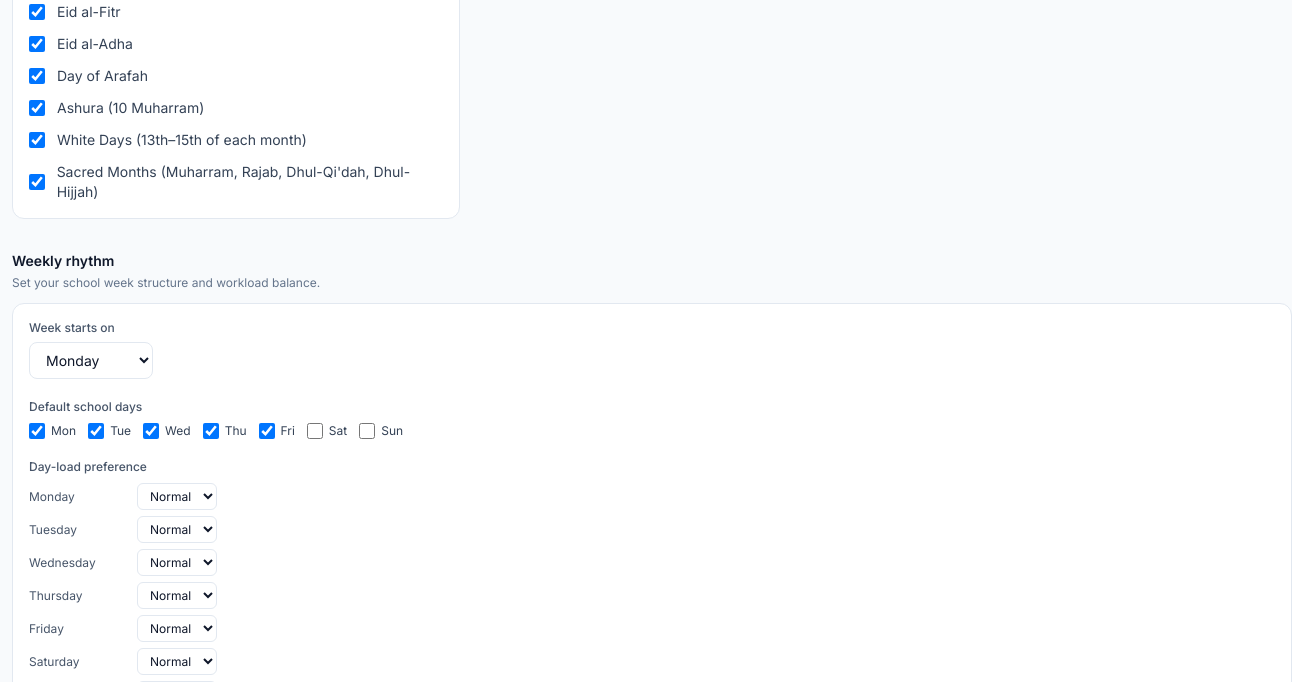
Test case: HouseholdSettings — unsaved changes warning › shows warning banner when form differs from saved state
(page scrolled)
Select "Wednesday" in the dropdown labelled "Week starts on" at (91, 360), box [29,342,153,379]
(page scrolled)
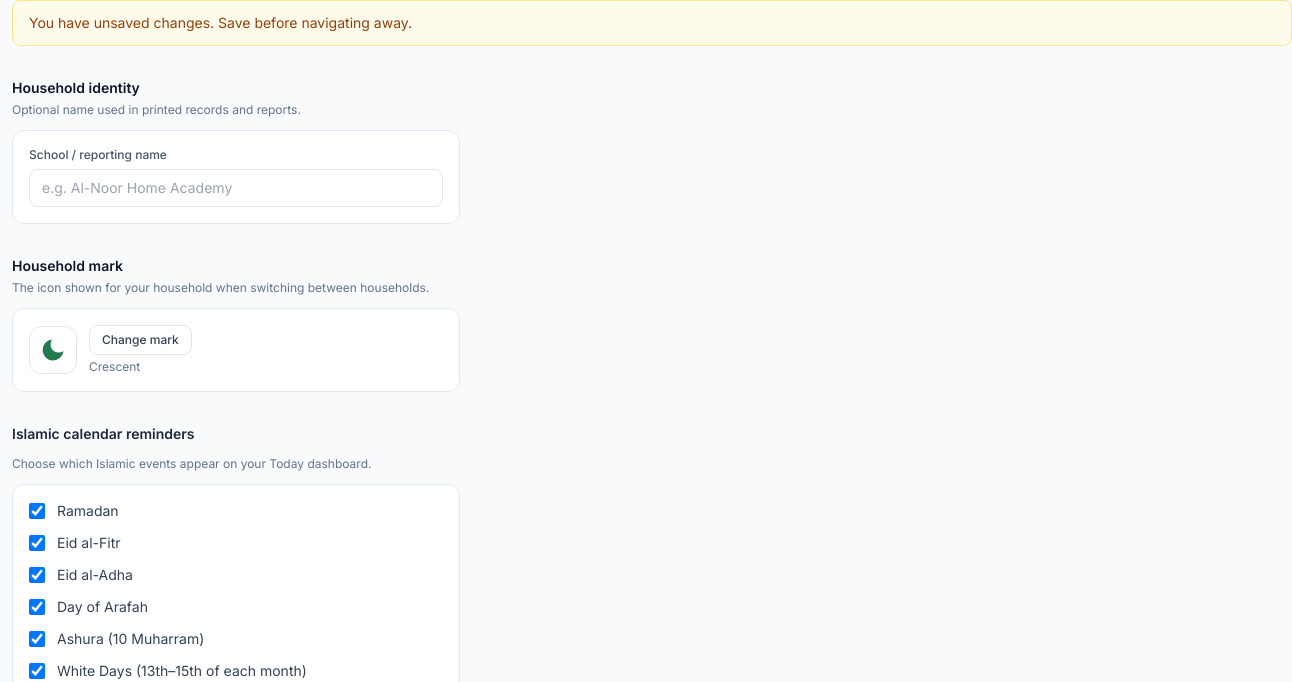
Expected: the message shows "unsaved changes", [29,14,412,31]
